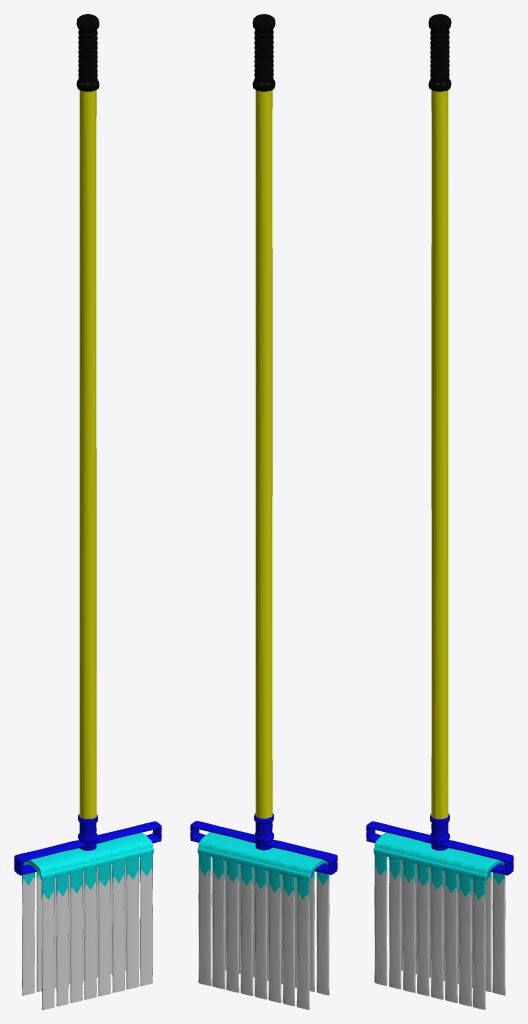
File: Mop.fbx
3 renders of one model, left to right at view 1: azimuth 30°, elevation 25°; view 2: azimuth 150°, elevation 25°; view 3: azimuth 330°, elevation 25°, orthographic.
Visible parts, largest first — view 1: pCylinder3; view 2: pCylinder3; view 3: pCylinder3.
Part boxes in pixels (x1,y1,x2,y2): pCylinder3: (14,14,161,1009); pCylinder3: (190,14,337,1009); pCylinder3: (366,14,513,1009).
Size of the model in its own units: 22.62 by 148 by 5.74.
